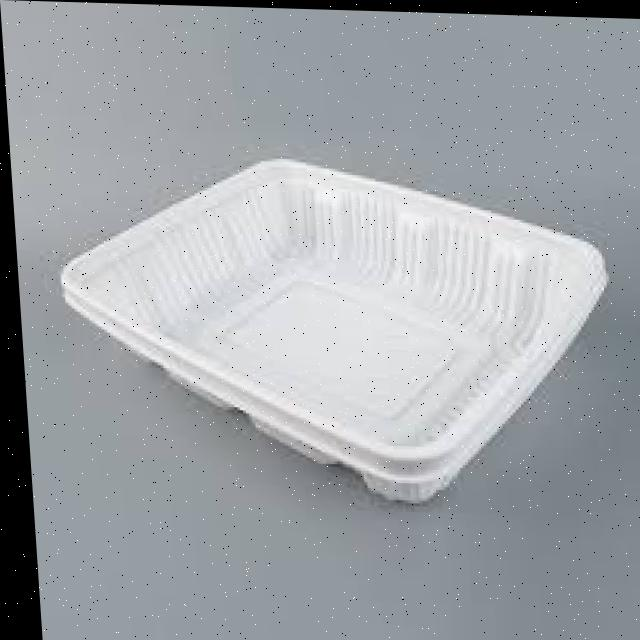disposable: (50, 126, 638, 537)
